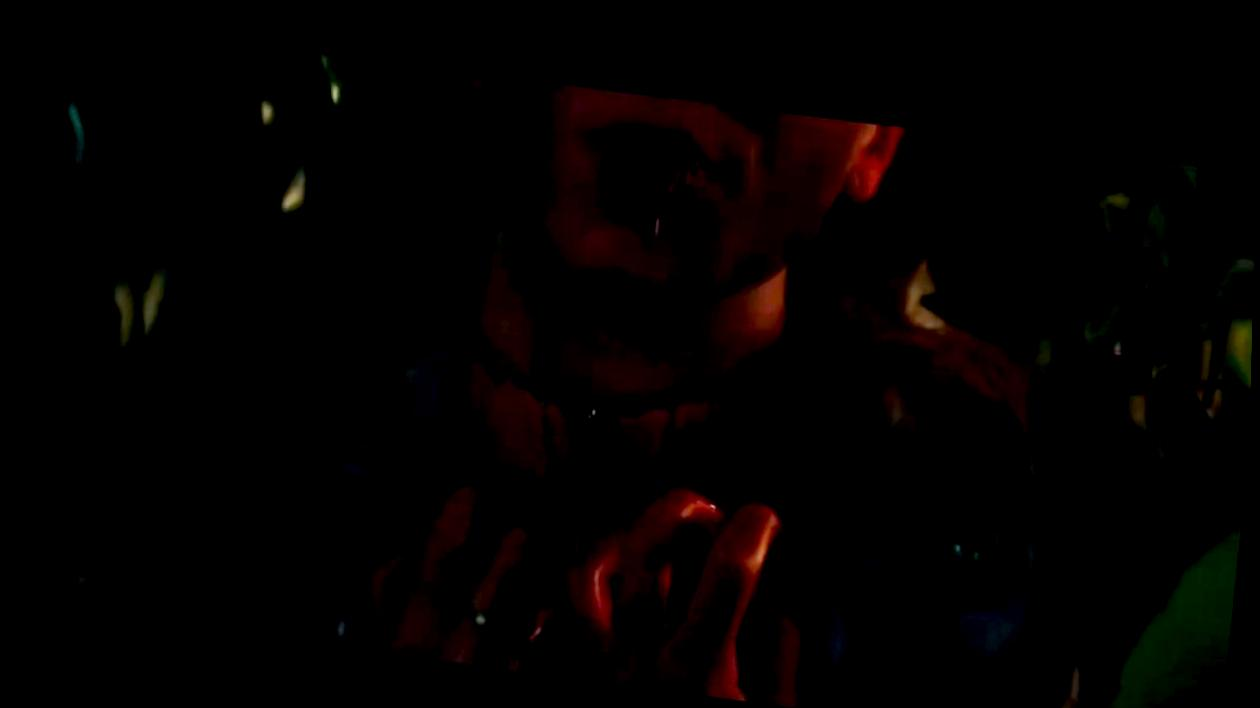Fire: (478, 336, 775, 542), (576, 113, 711, 231), (517, 600, 561, 665)
